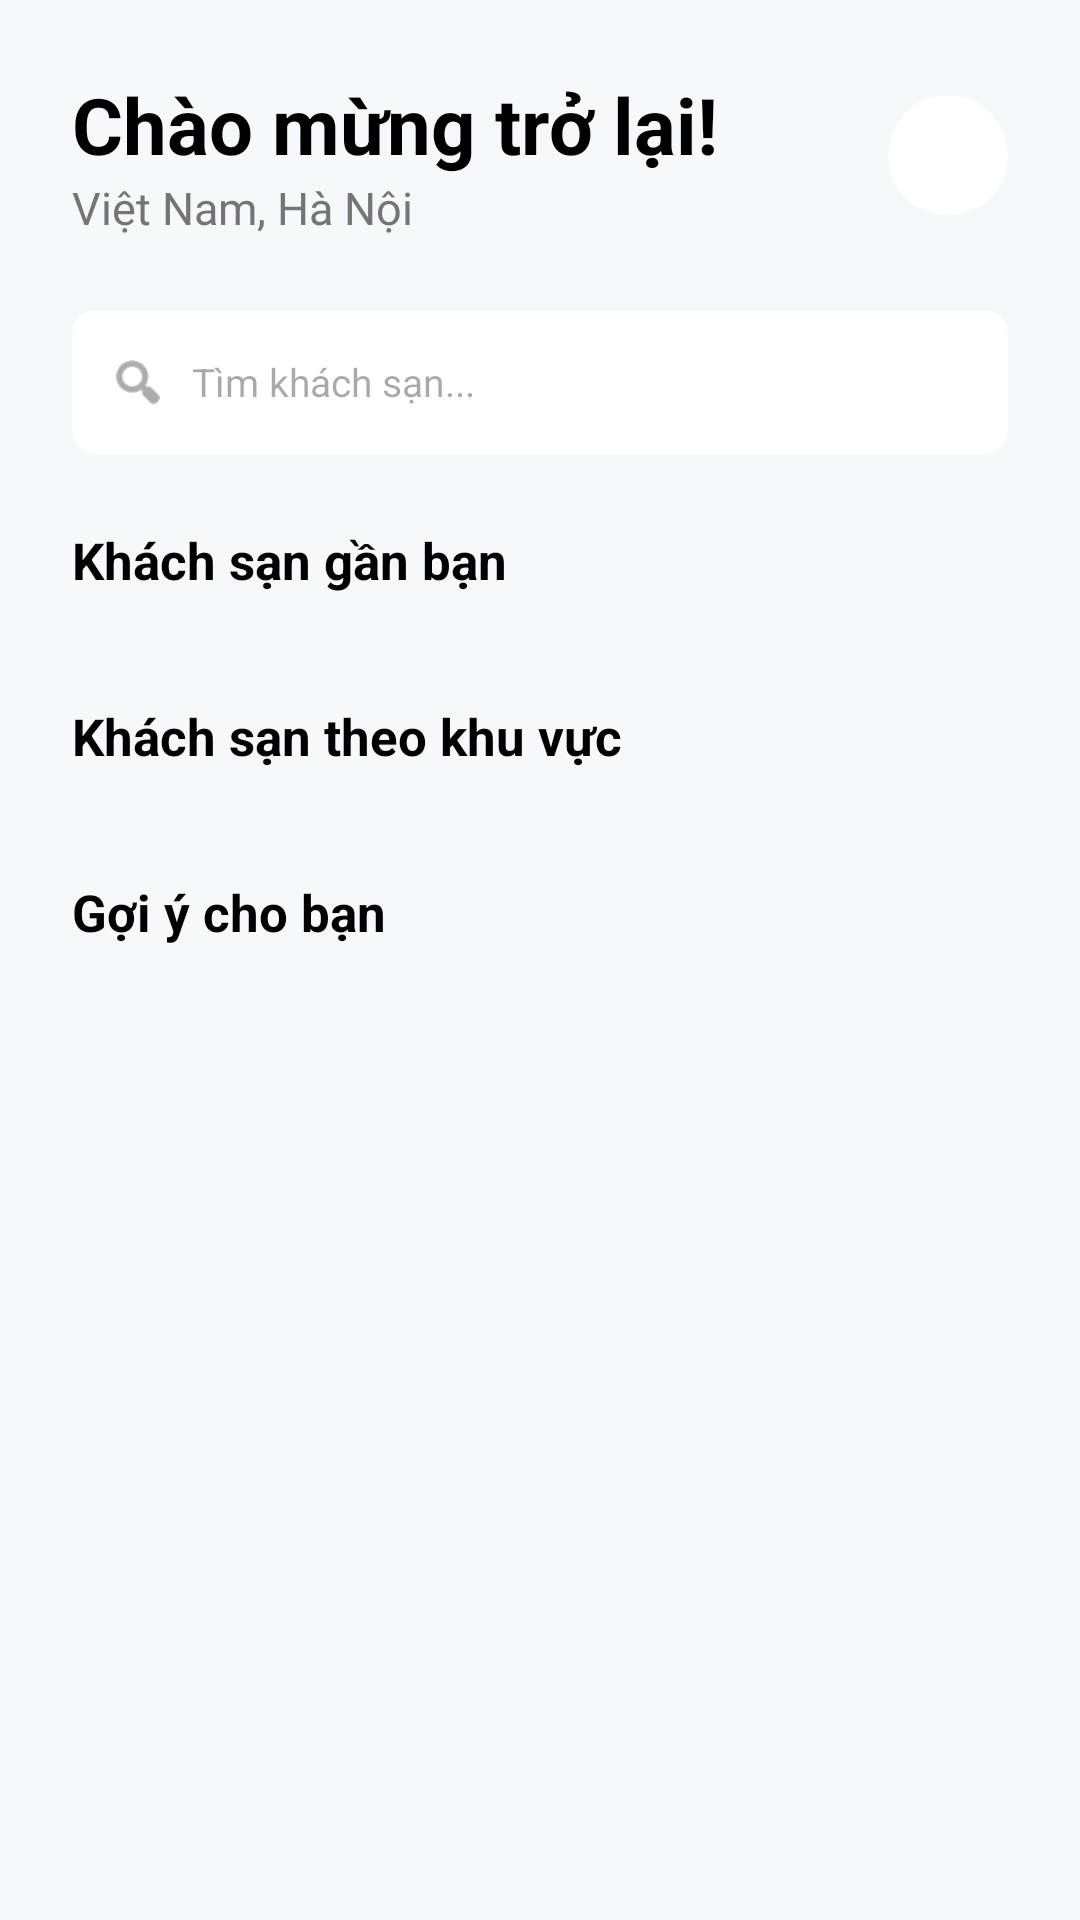

Icons on this 1080px×1920px Android screen, each with the point to tap as (x=x, y=y):
search: (x=138, y=382)
